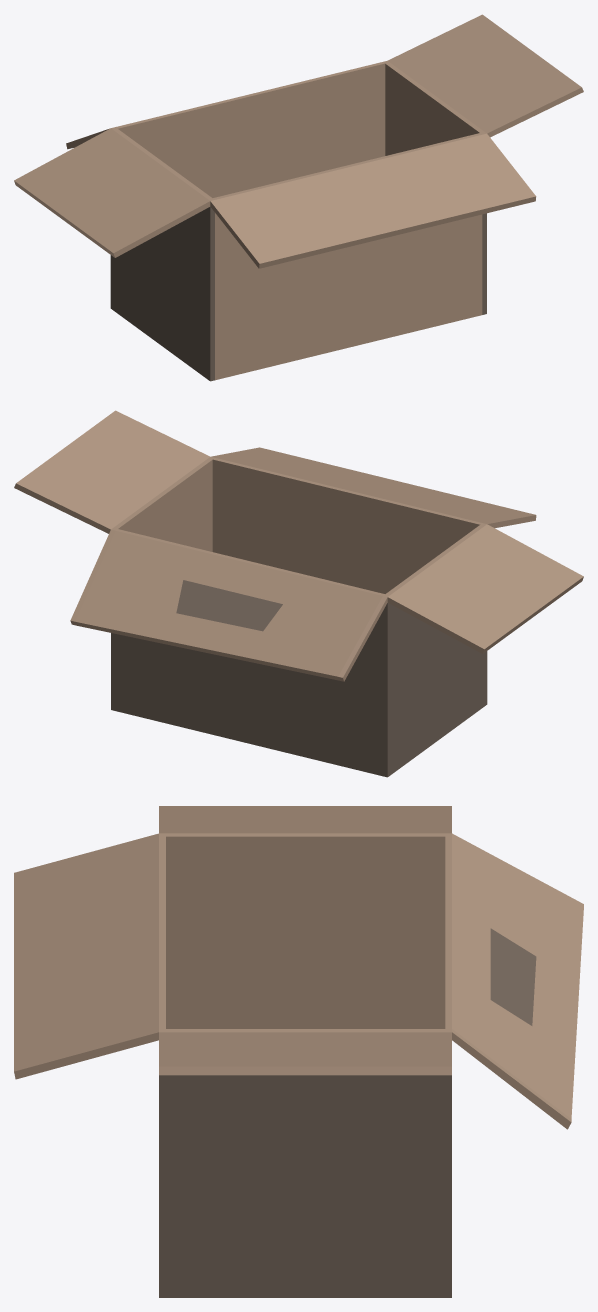
Rendered from O_Clutter_CardboardBox_Small1.fbx.
The picture shows the model from 3 angles, top to bottom: view 1: azimuth 30°, elevation 25°; view 2: azimuth 150°, elevation 25°; view 3: azimuth 270°, elevation 25°; orthographic projection. The views are drawn at different scales.
Visible parts, largest first — view 1: pCube28; view 2: pCube28; view 3: pCube28.
Boxes of the visible parts, x1,y1,x2,y2 form: pCube28: (14,14,583,381); pCube28: (14,410,583,777); pCube28: (14,806,583,1297).
Size of the model in its own units: 3.8 by 1.57 by 2.71.
